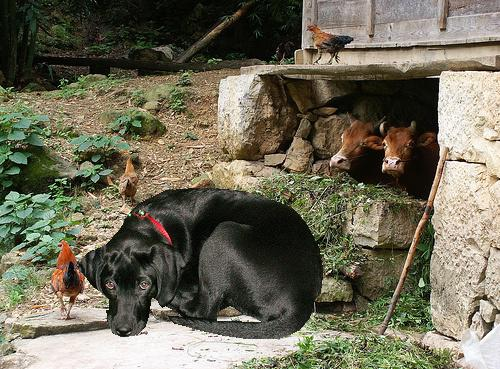tampered: (77, 189, 323, 339)
